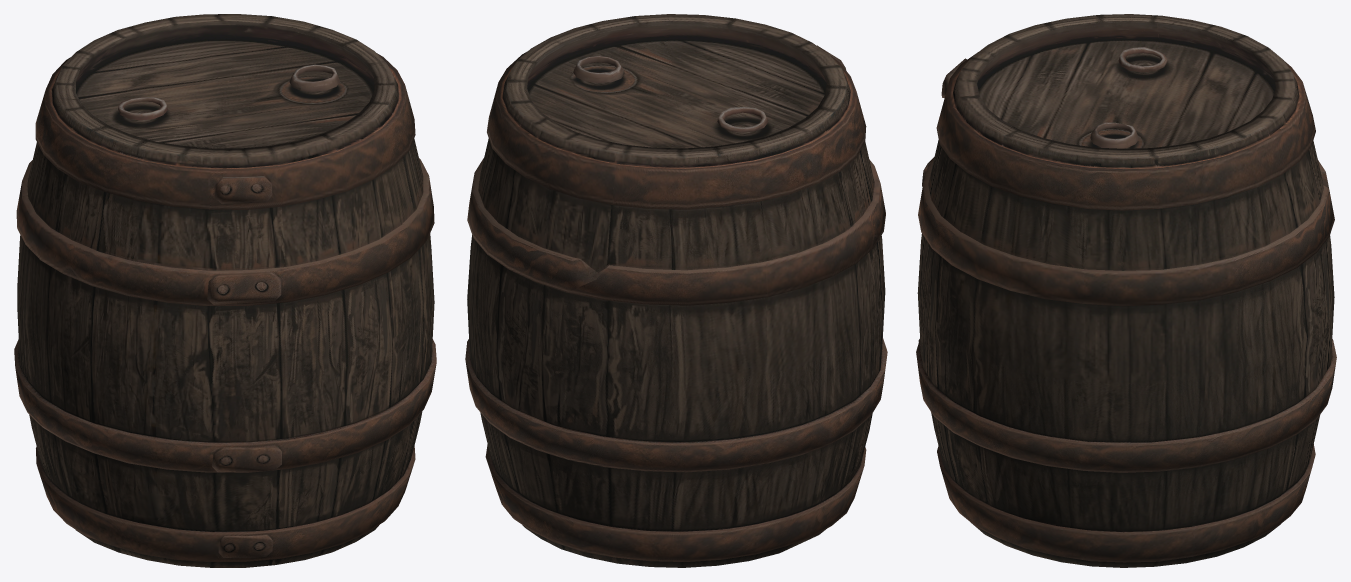
File: barrel.glb
The picture shows the model from 3 angles, left to right: view 1: azimuth 30°, elevation 25°; view 2: azimuth 150°, elevation 25°; view 3: azimuth 270°, elevation 25°; orthographic projection.
Size of the model in its own units: 0.9347 by 1 by 0.9286.
1 material, 1 textured.
